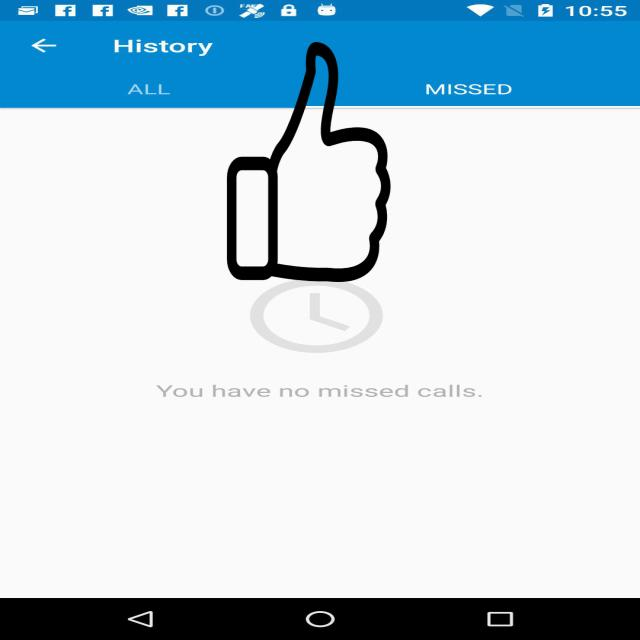privacy zuckering: (224, 42, 393, 282)
